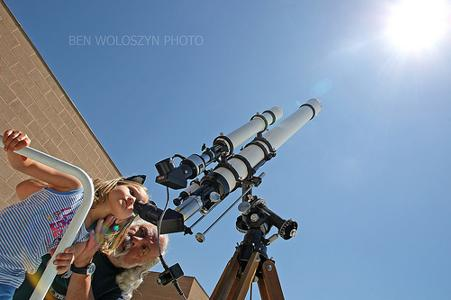person: (3, 128, 150, 300)
